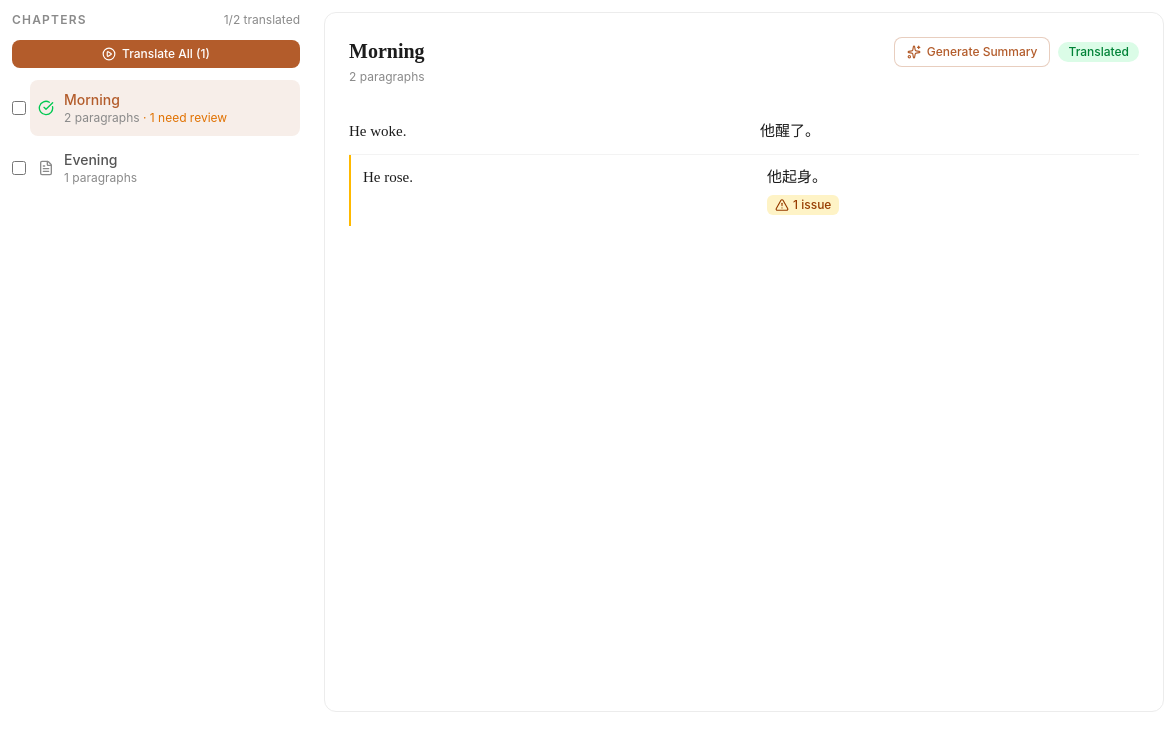
ChapterExplorer › loads the selected chapter and shows its paragraphs aligned, with review issues
Expected: the text "他醒了。" is shown, [760, 123, 820, 139]
Expected: the text "· 1 need review" is shown, [140, 110, 227, 125]
What coordinates should you click on to do the following:
click the button with aria-label "review issues"
I would click on:
 (803, 205)
Its box is [767, 195, 839, 215].
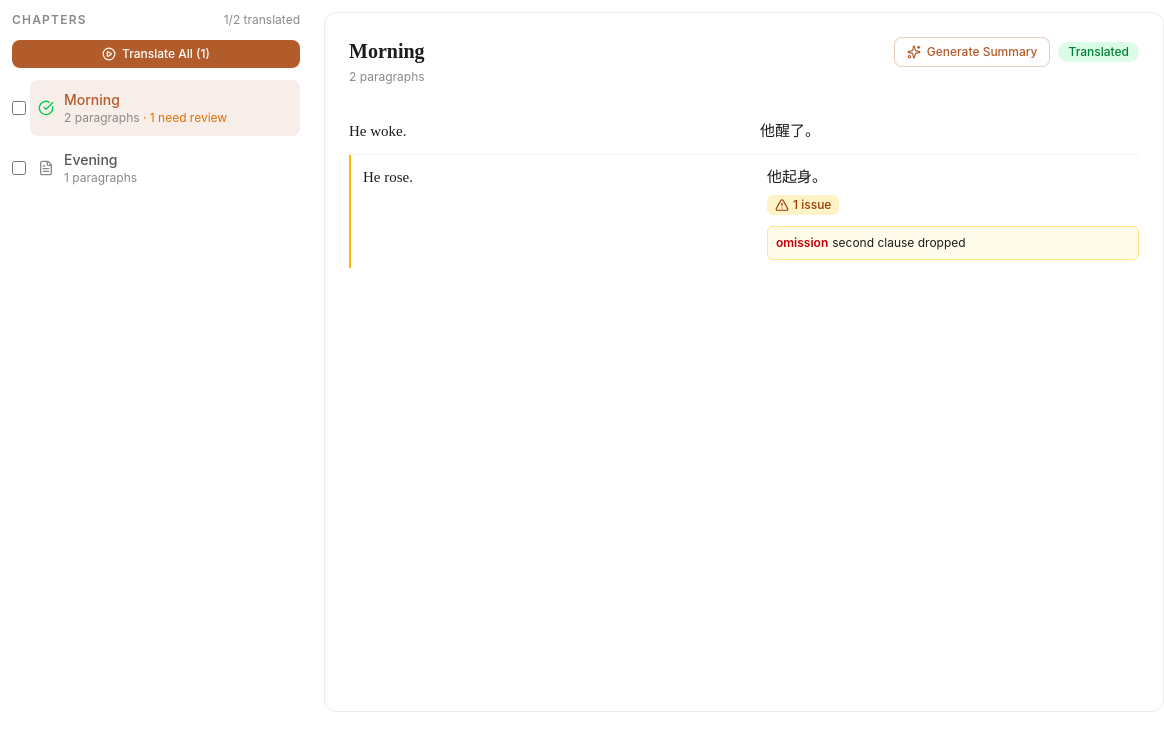
Expected: the list item "second clause dropped" is shown, [832, 235, 966, 250]
